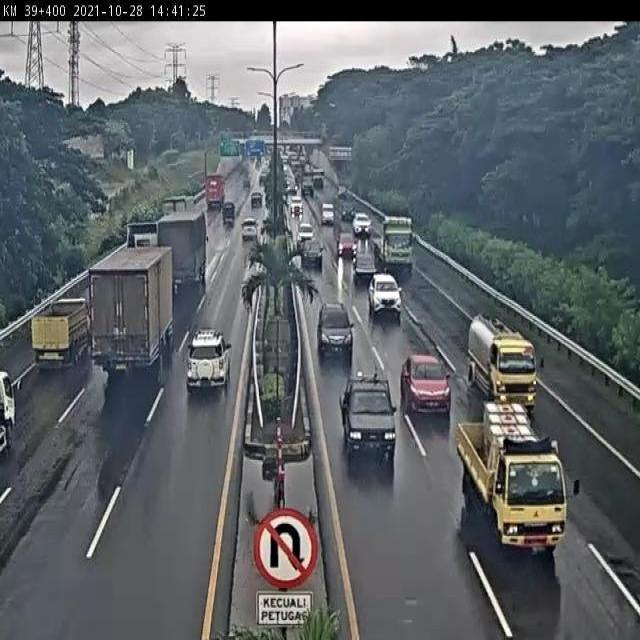big truck: (117, 220, 161, 271)
car: (339, 372, 397, 467), (400, 355, 451, 417), (186, 328, 230, 392), (317, 303, 354, 357), (368, 274, 402, 318), (352, 252, 377, 284), (301, 240, 323, 269)
mid truck: (87, 245, 175, 374), (156, 210, 208, 286), (161, 196, 195, 228)
small truck: (29, 296, 91, 369)
truck-m-: (455, 404, 570, 556), (467, 312, 539, 412)
